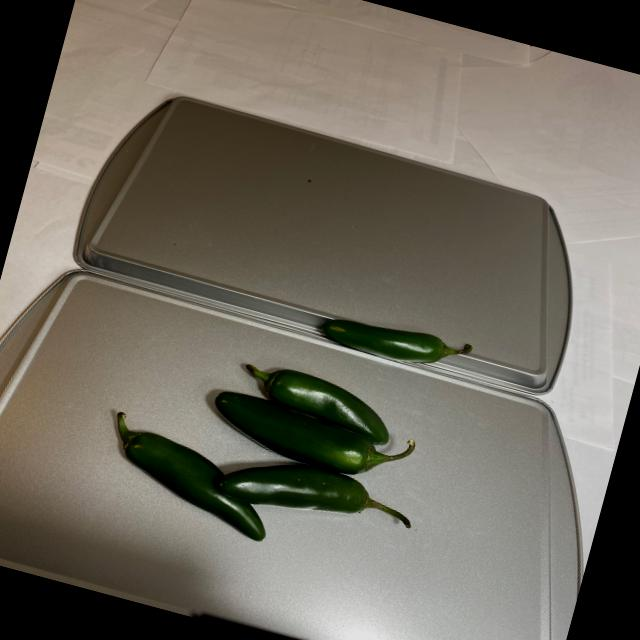chilli: (84, 253, 485, 580)
